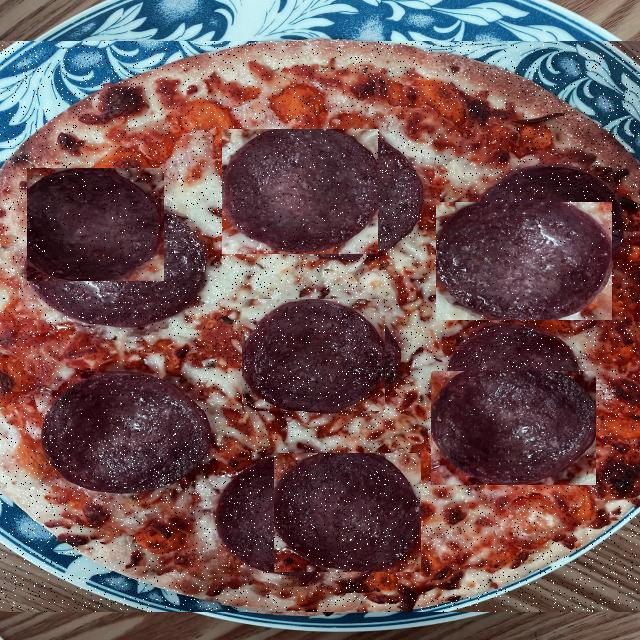Pepperoni: (436, 202, 612, 320), (222, 130, 378, 256), (432, 371, 598, 485), (274, 453, 421, 572), (242, 299, 385, 411), (28, 168, 166, 281), (62, 325, 197, 424)
Pizza: (0, 42, 640, 612)
